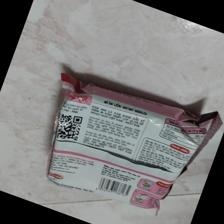Haohao: (43, 70, 216, 215)
